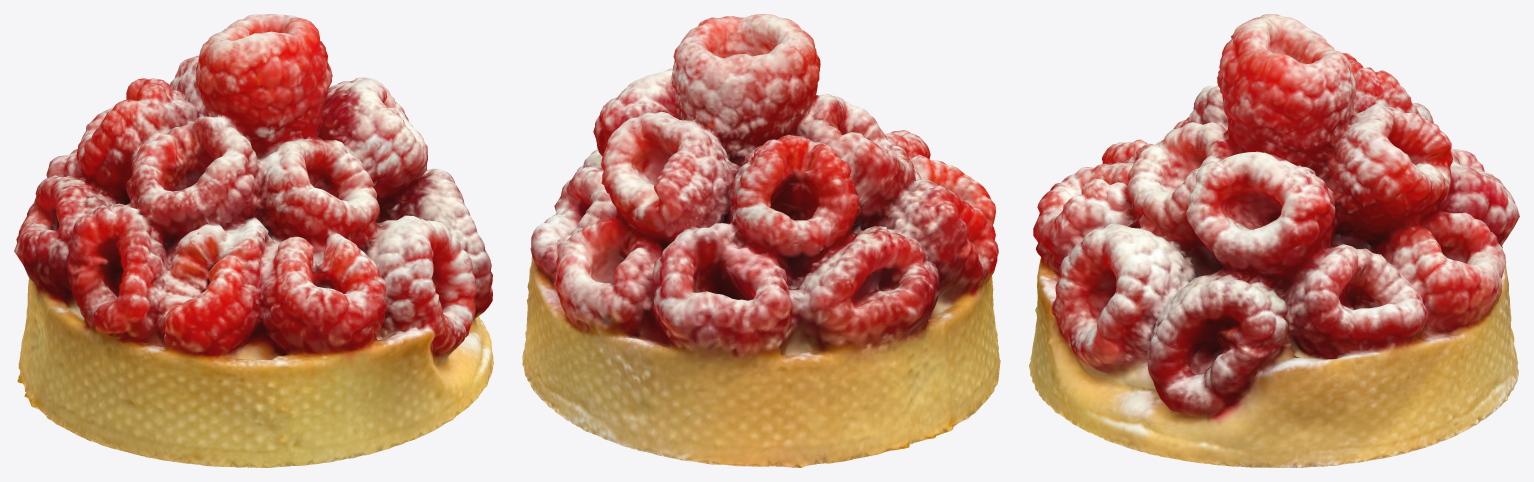
The model's file is cake_1_-_maison_alyzee.glb.
The picture shows the model from 3 angles, left to right: view 1: azimuth 30°, elevation 25°; view 2: azimuth 150°, elevation 25°; view 3: azimuth 270°, elevation 25°; orthographic projection.
Visible parts, largest first — view 1: 1-13x1objcleanermaterialmergergles; view 2: 1-13x1objcleanermaterialmergergles; view 3: 1-13x1objcleanermaterialmergergles.
Boxes of the visible parts, x1=… form: 1-13x1objcleanermaterialmergergles: x1=14, y1=14, x2=493, y2=467; 1-13x1objcleanermaterialmergergles: x1=522, y1=14, x2=1000, y2=467; 1-13x1objcleanermaterialmergergles: x1=1029, y1=14, x2=1519, y2=467.
Size of the model in its own units: 0.0824 by 0.0652 by 0.0834.
Materials: 1 (1 with a texture image).
